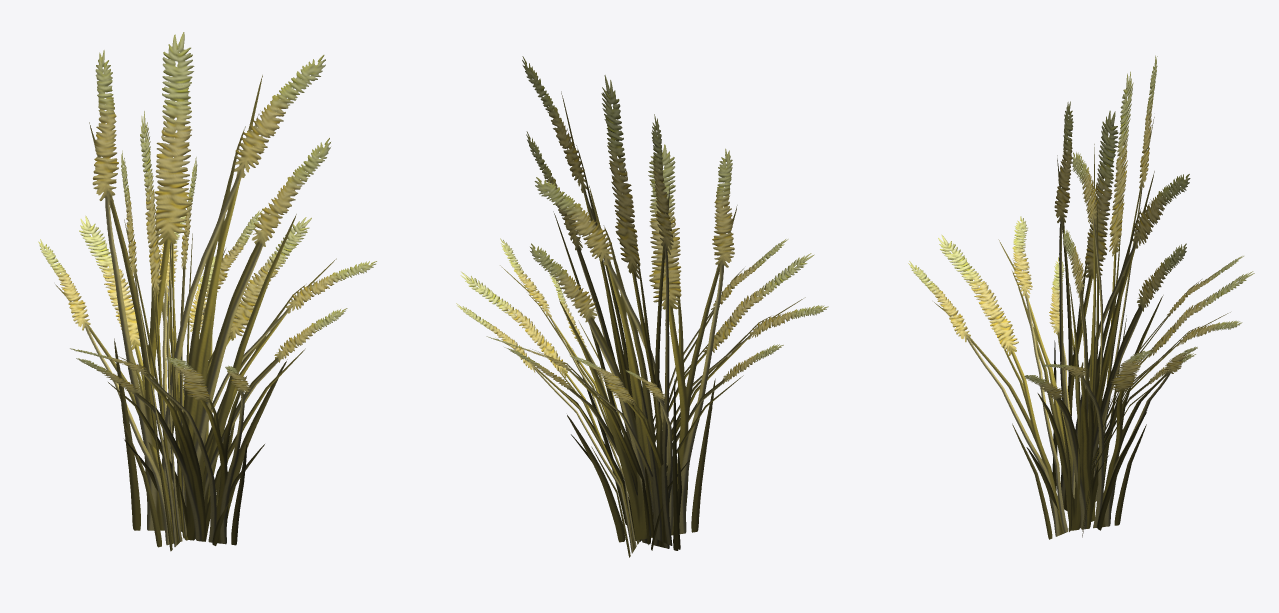
Rendered from PlantReed_LOD0.fbx.
The picture shows the model from 3 angles, left to right: view 1: azimuth 30°, elevation 25°; view 2: azimuth 150°, elevation 25°; view 3: azimuth 270°, elevation 25°; orthographic projection. The views are drawn at different scales.
Visible parts, largest first — view 1: Mesh; view 2: Mesh; view 3: Mesh.
Part boxes in pixels (bbox=[...]): Mesh: bbox=[38, 32, 376, 551]; Mesh: bbox=[456, 56, 828, 557]; Mesh: bbox=[908, 55, 1254, 539].
Bounding box in the file's own units: 176 × 247 × 168.
